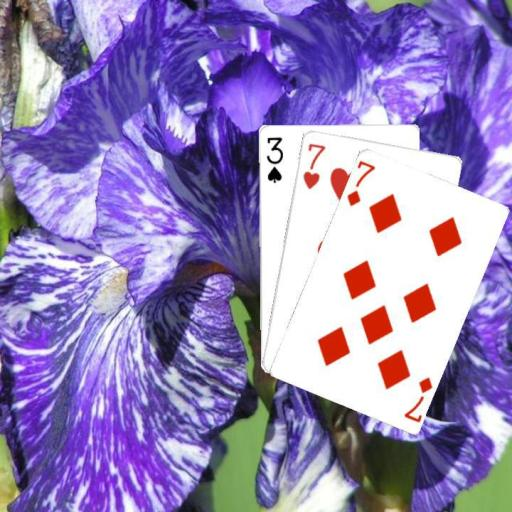3S: (262, 133, 284, 184)
7D: (343, 158, 377, 208), (400, 373, 433, 423)
7H: (300, 140, 327, 191)
